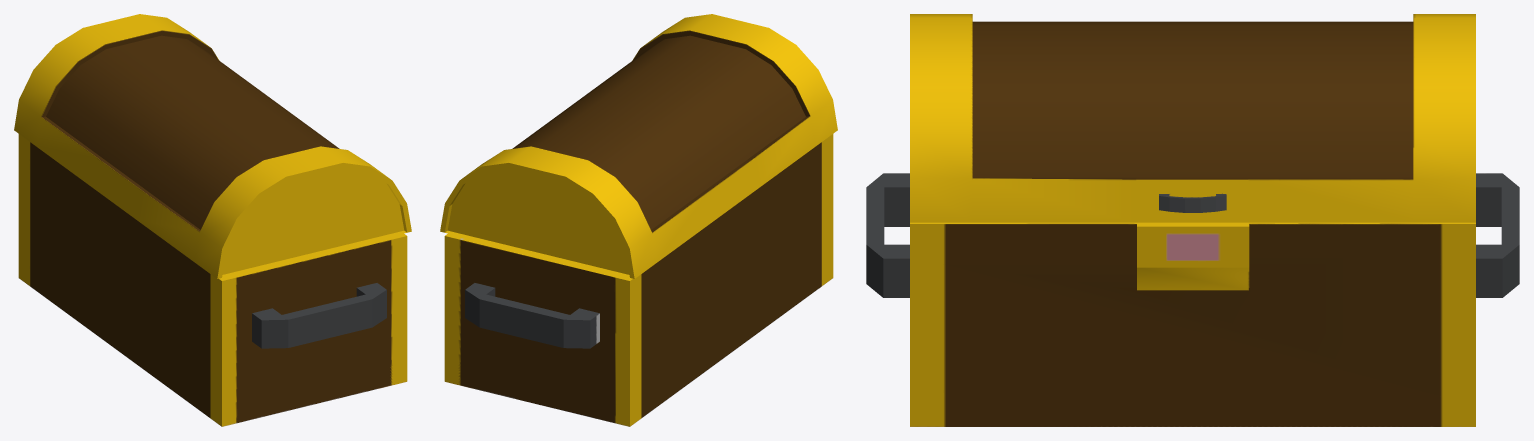
File: chest.fbx
3 views of the same model, side by side, from view 1: azimuth 30°, elevation 25°; view 2: azimuth 150°, elevation 25°; view 3: azimuth 270°, elevation 25° (orthographic). The views are drawn at different scales.
Visible parts, largest first — view 1: Cylinder001, Object001; view 2: Cylinder001, Object001; view 3: Object001, Cylinder001.
Boxes of the visible parts, <box> form: Cylinder001: <box>14,14,411,278</box>; Object001: <box>18,134,407,426</box>; Cylinder001: <box>440,14,837,278</box>; Object001: <box>444,134,833,426</box>; Object001: <box>866,173,1519,426</box>; Cylinder001: <box>910,14,1475,222</box>.
Size of the model in its own units: 48.38 by 97.57 by 53.81.
2 materials, 2 textured.
